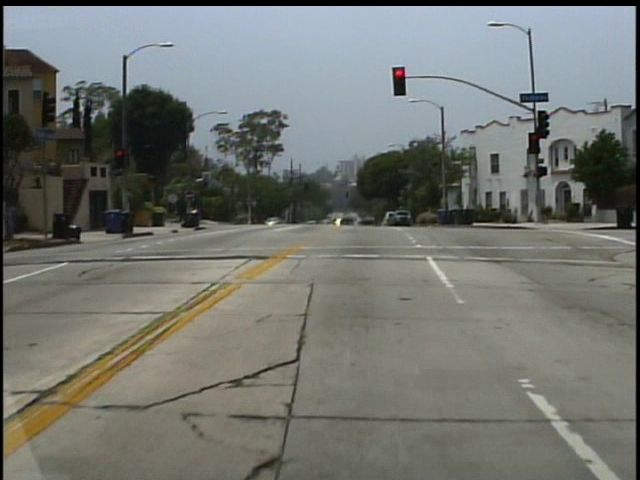person: (3, 195, 12, 241)
